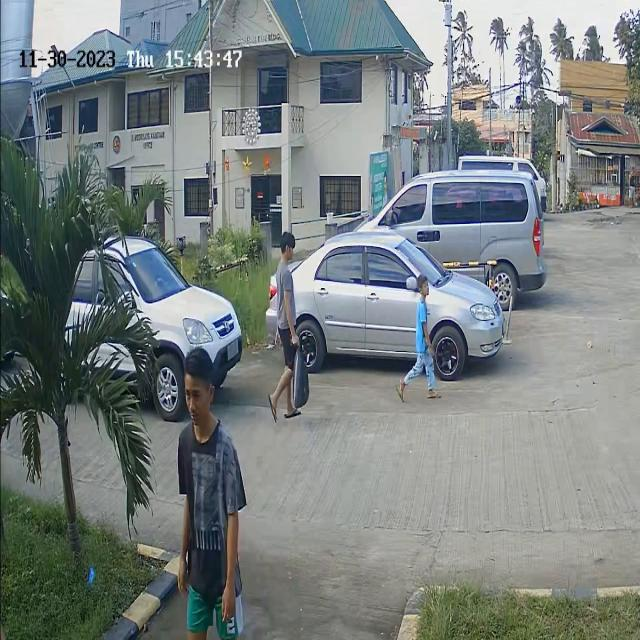garbage: (284, 334, 316, 408)
person: (170, 346, 230, 502), (408, 272, 442, 400), (270, 228, 302, 327)
